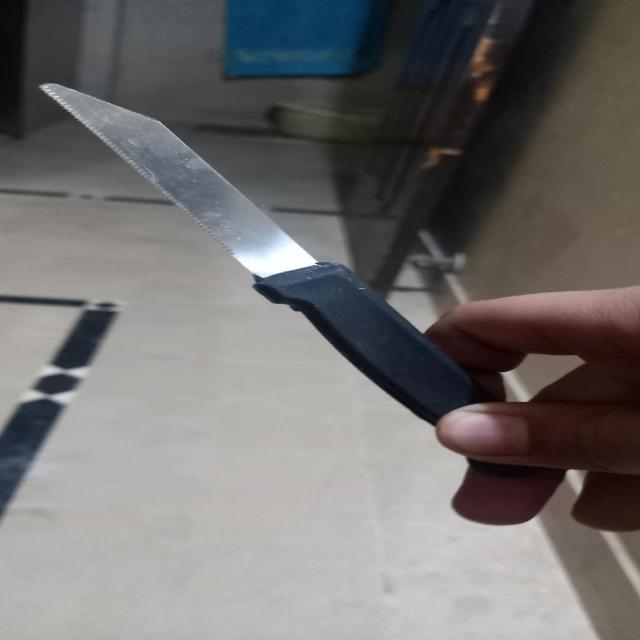Knife: (45, 85, 475, 427)
Person: (422, 283, 640, 524)
